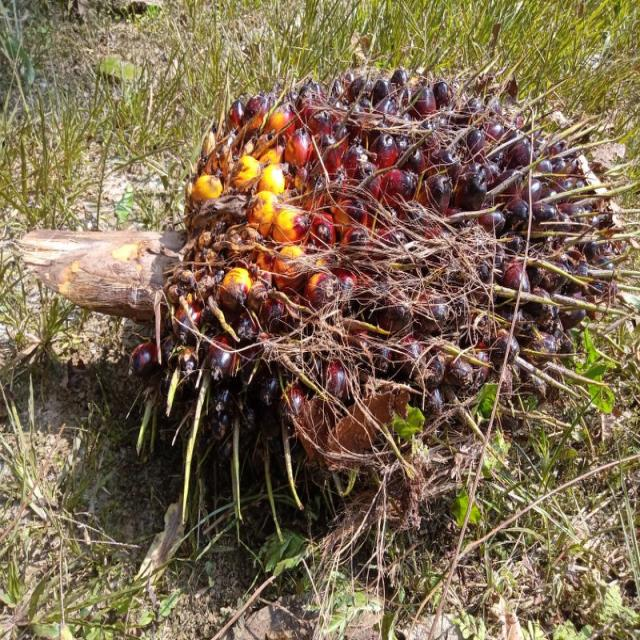fraksi 1: (186, 72, 613, 466)
